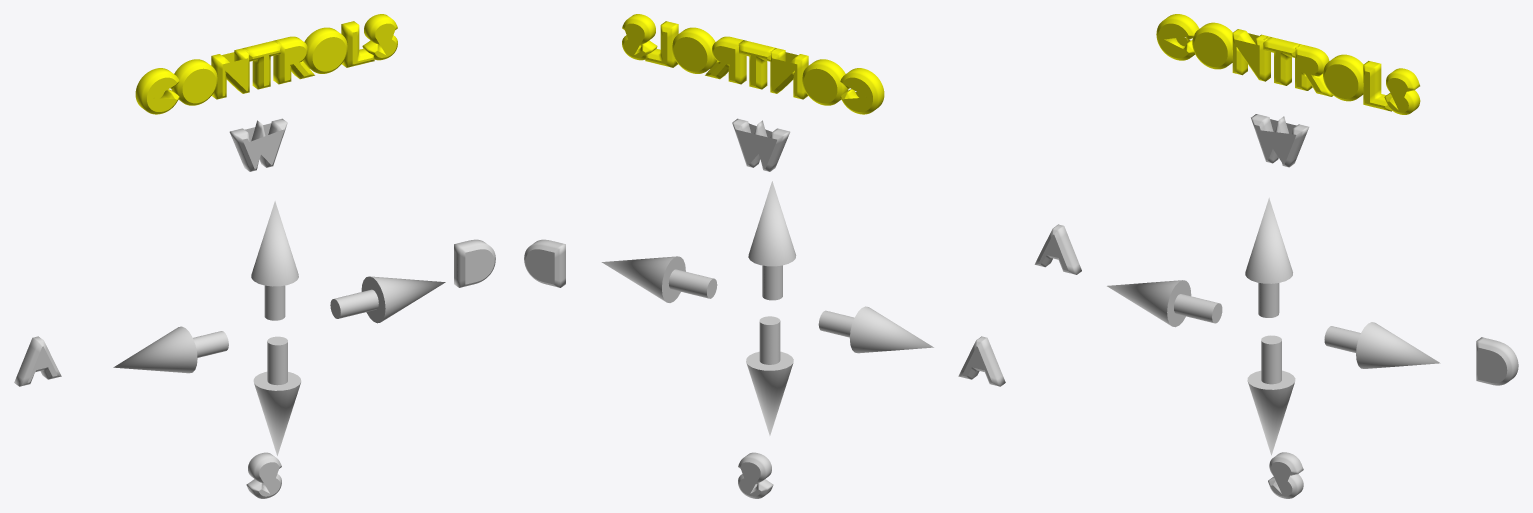
Rendered from controls.obj.
3 renders of one model, left to right at view 1: azimuth 30°, elevation 25°; view 2: azimuth 150°, elevation 25°; view 3: azimuth 330°, elevation 25°, orthographic.
Parts seen in each view (by area): view 1: polySurface1, polySurface6, polySurface7, polySurface9, polySurface8, polySurface2, polySurface5, polySurface3, polySurface4; view 2: polySurface1, polySurface7, polySurface6, polySurface8, polySurface9, polySurface2, polySurface5, polySurface3, polySurface4; view 3: polySurface1, polySurface6, polySurface7, polySurface9, polySurface8, polySurface2, polySurface5, polySurface3, polySurface4.
Boxes of the visible parts, box(x1,y1,x2,y2) form: polySurface1: box(135, 14, 397, 114); polySurface6: box(251, 201, 298, 320); polySurface7: box(253, 336, 301, 455); polySurface9: box(113, 326, 228, 373); polySurface8: box(330, 276, 445, 323); polySurface2: box(229, 118, 287, 171); polySurface5: box(454, 239, 495, 287); polySurface3: box(246, 452, 281, 498); polySurface4: box(14, 336, 61, 386); polySurface1: box(622, 14, 884, 114); polySurface7: box(746, 316, 793, 435); polySurface6: box(748, 181, 796, 300); polySurface8: box(601, 256, 717, 302); polySurface9: box(818, 306, 933, 353); polySurface2: box(732, 118, 790, 171); polySurface5: box(524, 239, 565, 287); polySurface3: box(738, 452, 773, 498); polySurface4: box(958, 336, 1005, 386); polySurface1: box(1156, 14, 1420, 114); polySurface6: box(1245, 197, 1292, 317); polySurface7: box(1247, 335, 1295, 455); polySurface9: box(1107, 280, 1222, 327); polySurface8: box(1324, 322, 1440, 368); polySurface2: box(1251, 114, 1309, 167); polySurface5: box(1476, 337, 1518, 385); polySurface3: box(1268, 452, 1303, 498); polySurface4: box(1034, 224, 1081, 274).
Bounding box in the file's own units: 12.72 × 11.52 × 1.41.
